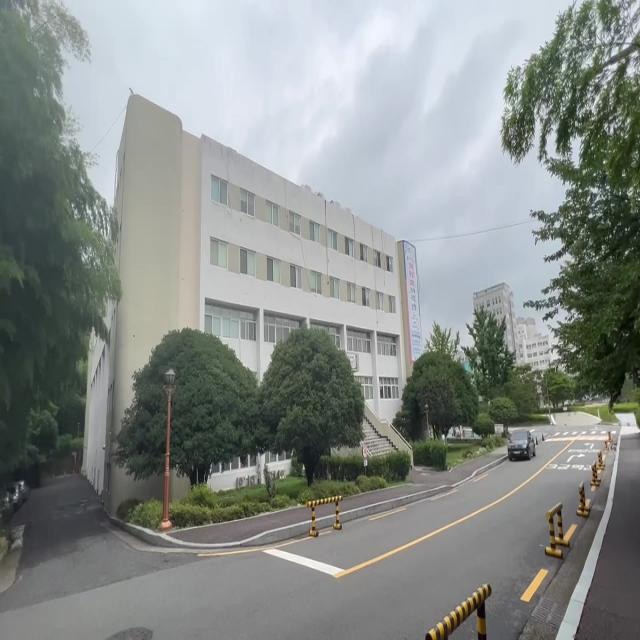building: (124, 122, 393, 334)
